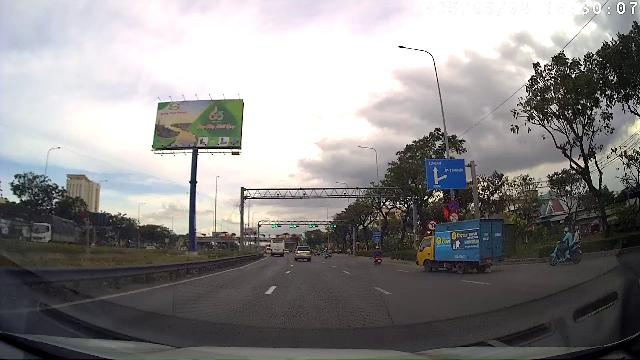130-cam-dung-va-do-xe: (448, 200, 459, 212)
